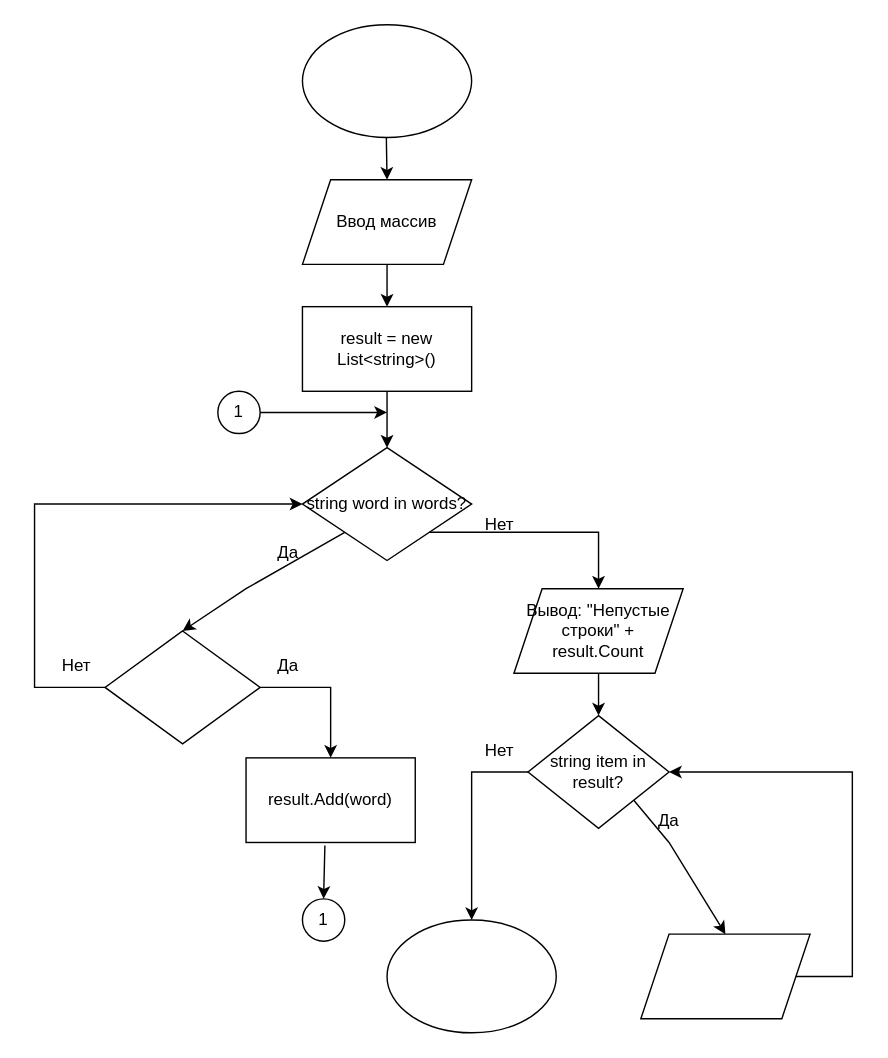
The diagram is 888 pixels wide and 1058 high, and some of its shapes have lost their labels. Here are the shapes that lost their labels. From the top down, the box of each, then its label:
(301, 23, 472, 137): Начало
(104, 630, 260, 744): !IsNullorEmpty (word)?
(386, 919, 556, 1033): Конец
(639, 933, 810, 1019): Вывод: items
